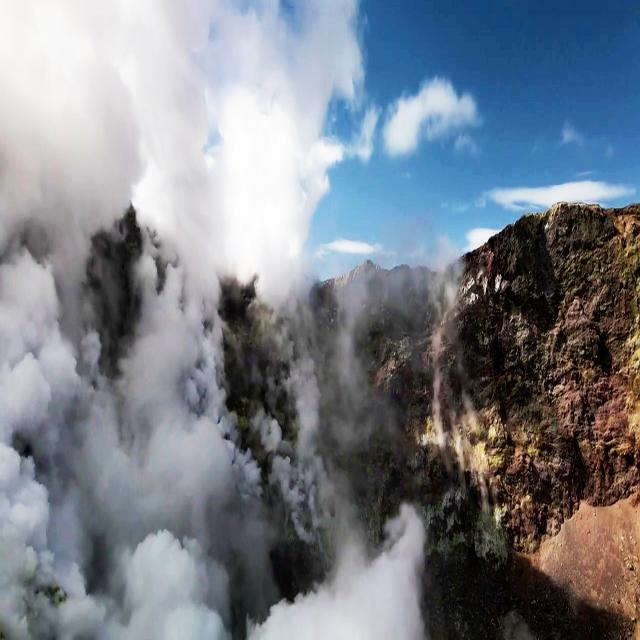asap: (98, 1, 248, 640), (1, 3, 149, 640), (208, 1, 372, 324), (103, 265, 241, 638), (254, 499, 450, 638)
